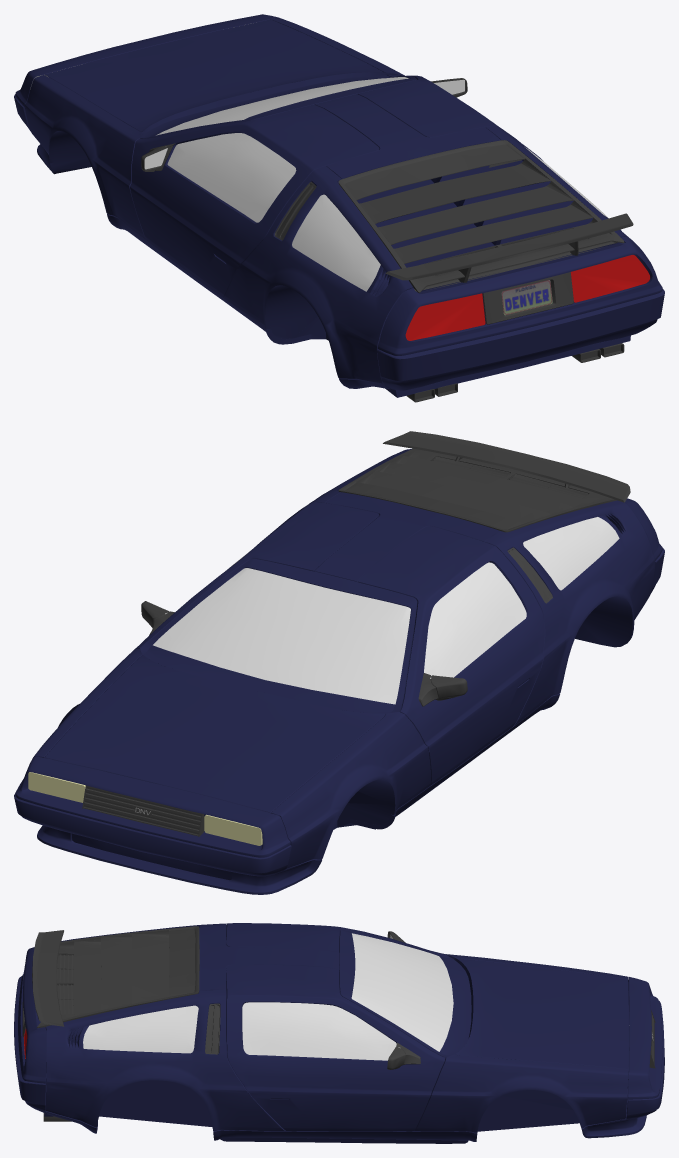
Rendered from DENVER.fbx.
3 views of the same model, one above another, from view 1: azimuth 30°, elevation 25°; view 2: azimuth 150°, elevation 25°; view 3: azimuth 270°, elevation 25° (orthographic). The views are drawn at different scales.
Visible parts, largest first — view 1: Object014; view 2: Object014; view 3: Object014.
Boxes of the visible parts, box(x1,y1,x2,y2) form: Object014: box(14, 14, 664, 402); Object014: box(14, 431, 664, 894); Object014: box(14, 923, 664, 1143).
Size of the model in its own units: 5.2 by 2.68 by 11.14.
